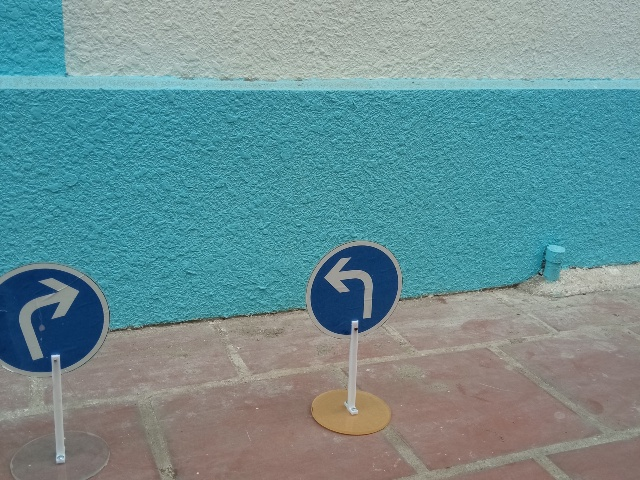Left_Sign: (306, 241, 403, 340)
Right_Sign: (0, 262, 110, 377)
